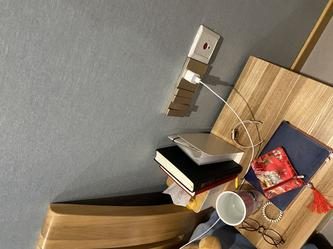switch: (169, 108, 190, 117), (179, 88, 196, 97), (175, 98, 195, 105)
